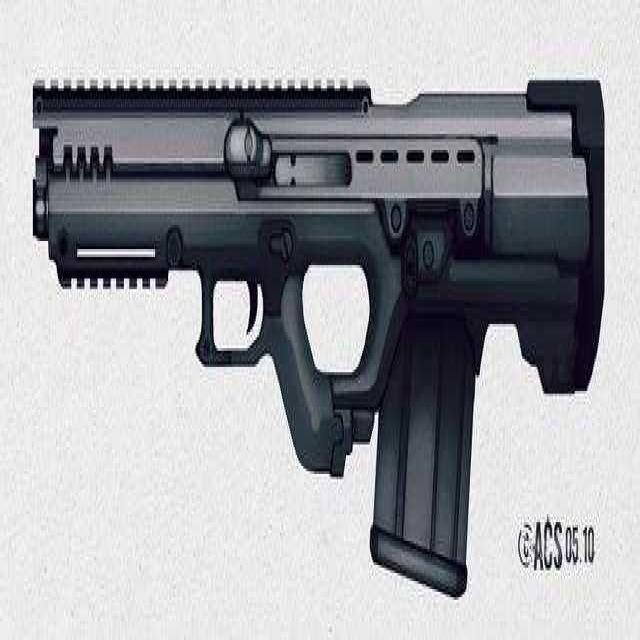weapon: (35, 13, 614, 573)
